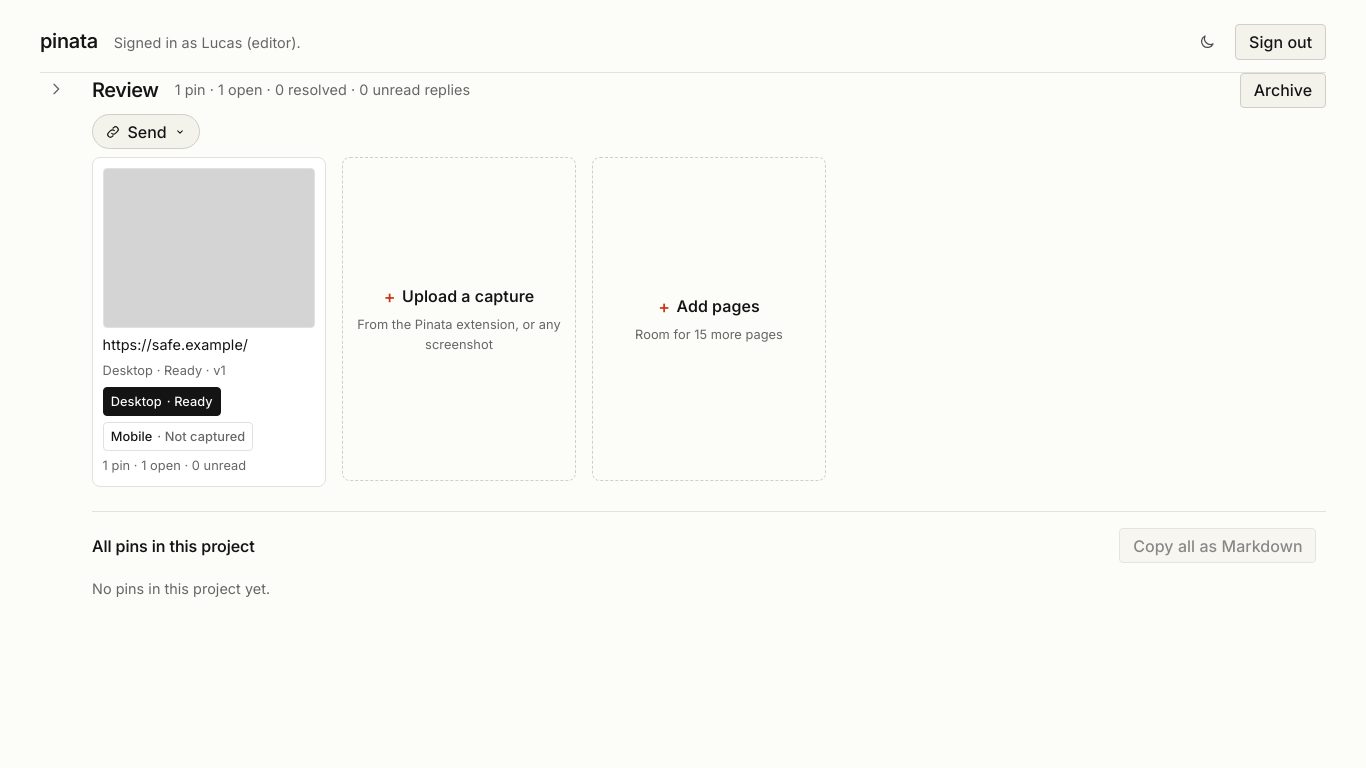
Test: editor live refresh (D097) › a live refresh started before Send closes cannot undo the newer reload's failure
This screenshot has width=1366, height=768.
Click the button "Send" at (146, 132), box [92,114,200,149]
Wait 20000 ms
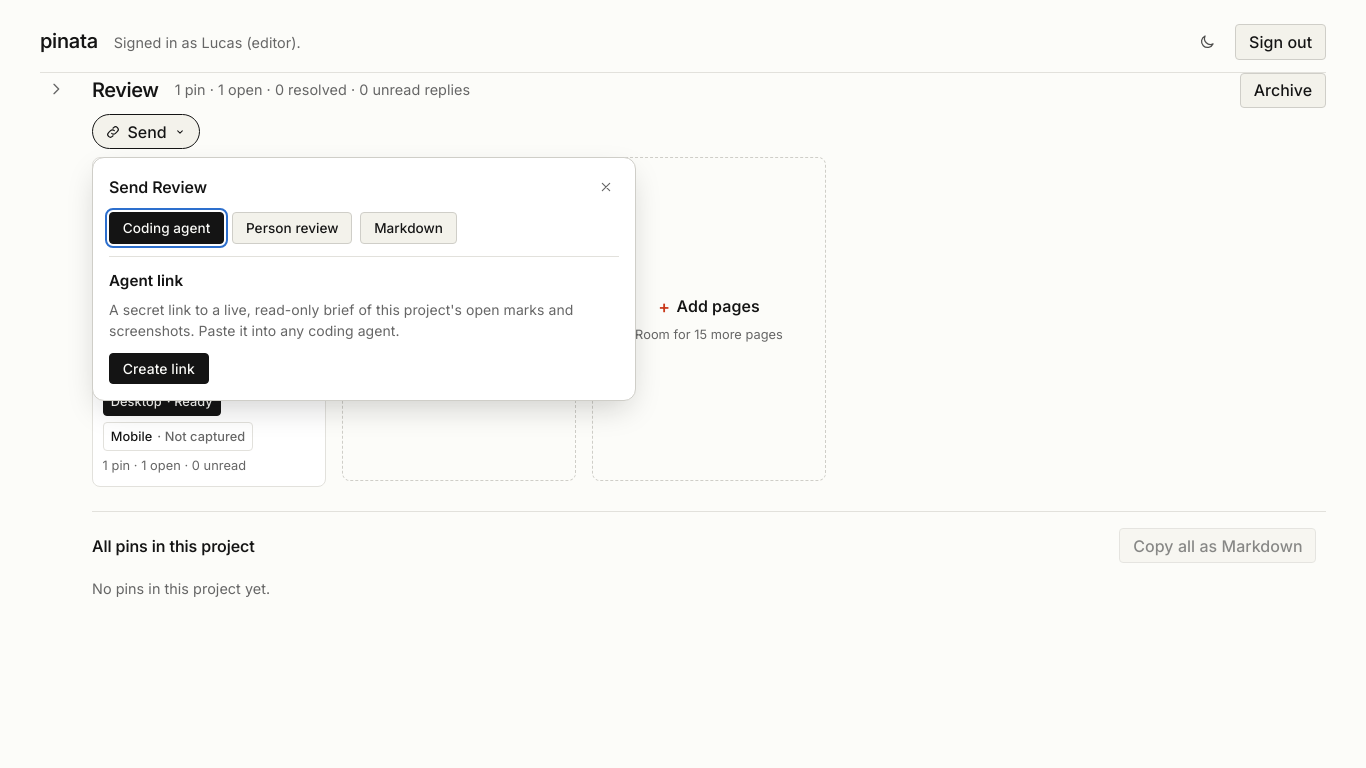
Click the button named "Close Send" at (606, 187), box [593,174,619,200]
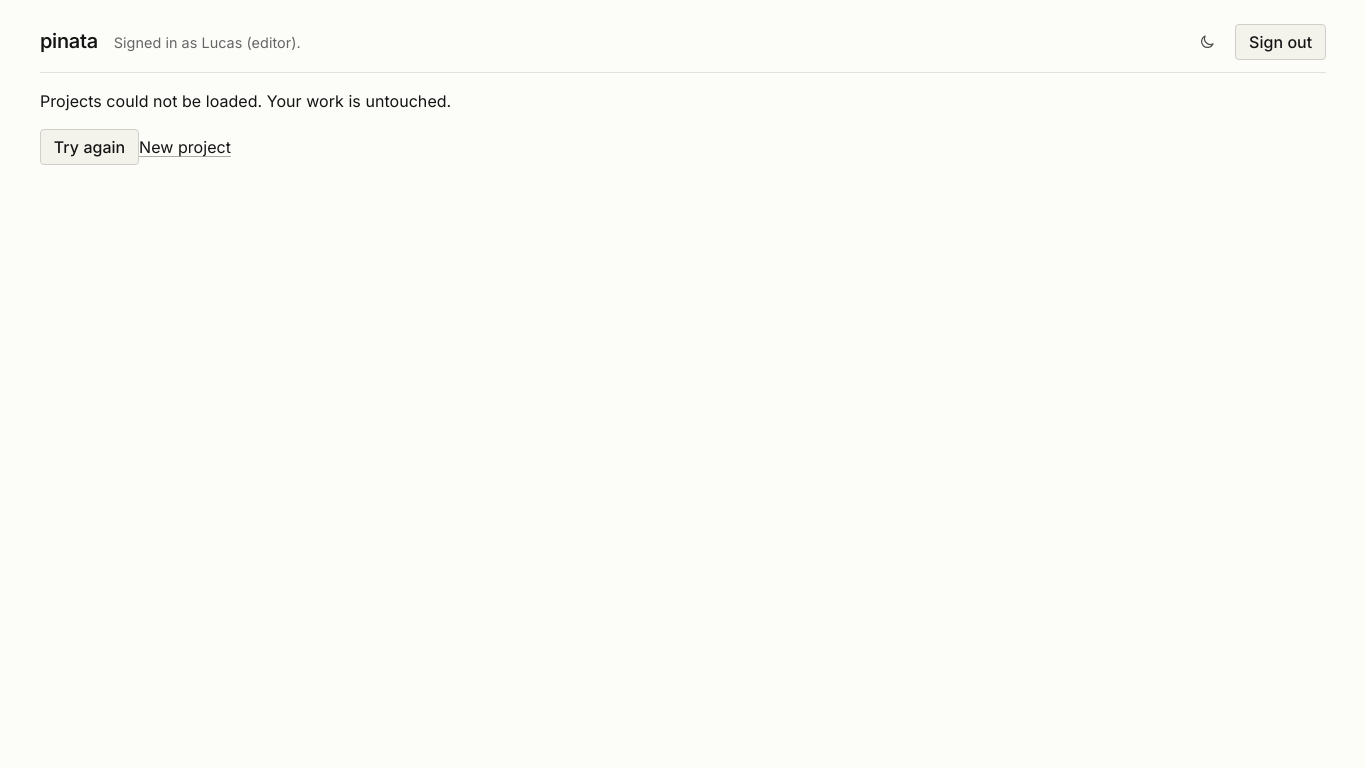
Check: the message shows "Projects could not be loaded", box [40,91,451,111]
